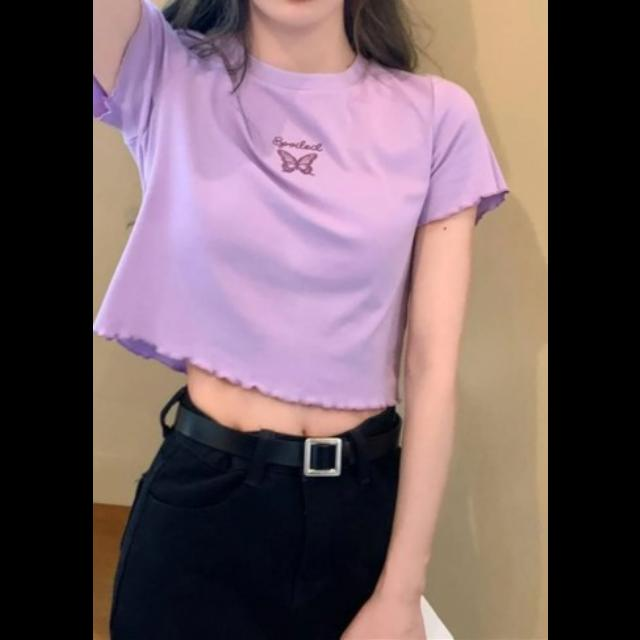top: (116, 16, 490, 418)
